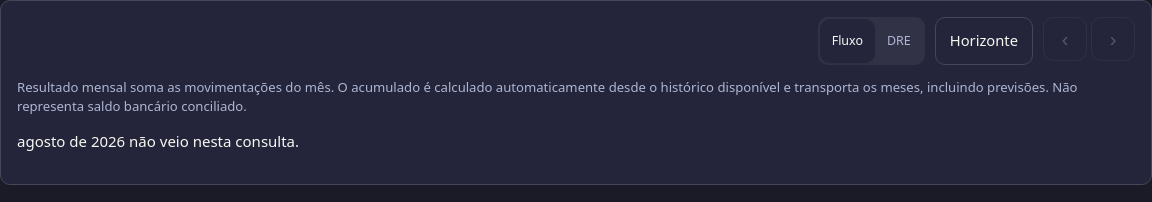
Scenario: ⚠⚠ vazio tem NOME — nunca `R$ 0,00` › empresa sem lançamento diz o que houve, e não mostra tabela
This screenshot has width=1152, height=202.
Click the button "DRE". click: (899, 41)
box: [875,19,923,63]
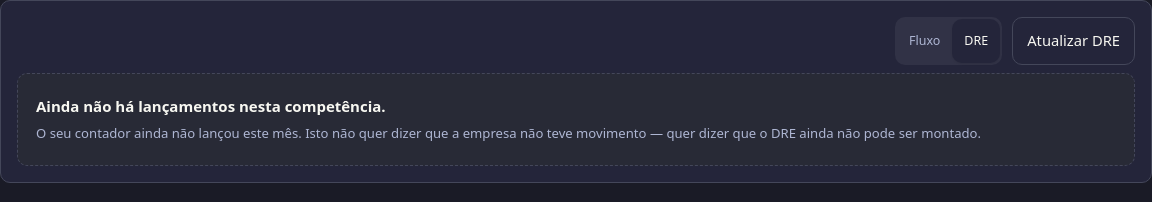
Expected: the text "Ainda não há lançamentos nesta competência." is shown, [36,96,386,116]
Expected: the text "não quer dizer que a empresa não teve movimento" is shown, [36,124,981,142]
